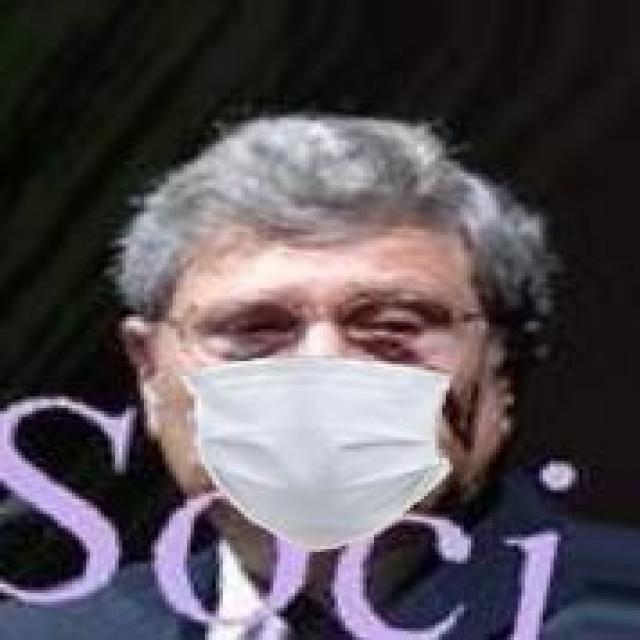mask: (122, 65, 564, 540)
